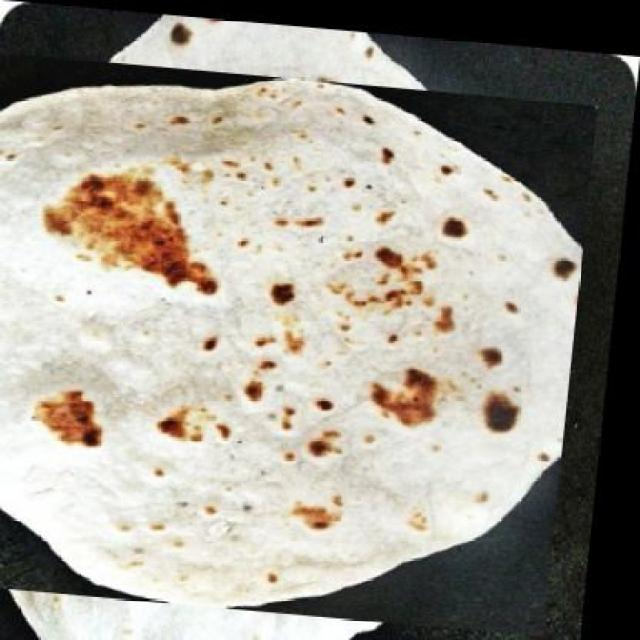chapati: (0, 26, 577, 639)
